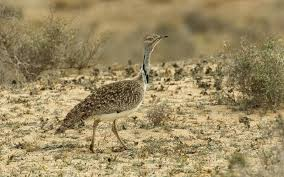Walking: (49, 23, 189, 161)
